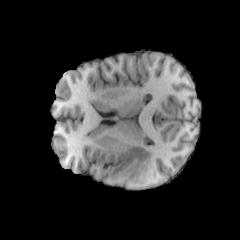glioma: (111, 145, 151, 180)
